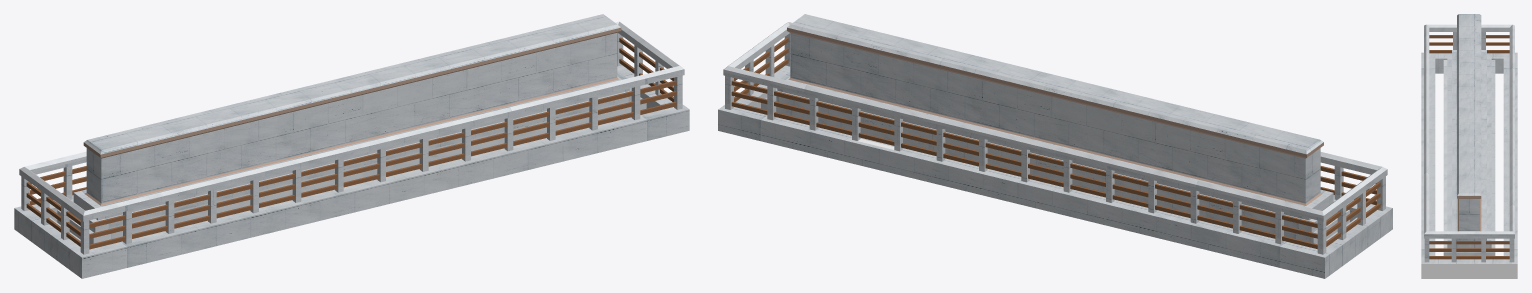
The model's file is eponymous.fbx.
The picture shows the model from 3 angles, left to right: view 1: azimuth 30°, elevation 25°; view 2: azimuth 150°, elevation 25°; view 3: azimuth 270°, elevation 25°; orthographic projection. The views are drawn at different scales.
Visible parts, largest first — view 1: Group1; view 2: Group1; view 3: Group1.
Part boxes in pixels (x1=…): Group1: x1=14, y1=14, x2=689, y2=278; Group1: x1=718, y1=14, x2=1392, y2=278; Group1: x1=1421, y1=14, x2=1517, y2=278.
Bounding box in the file's own units: 17534 × 2703 × 3390.
